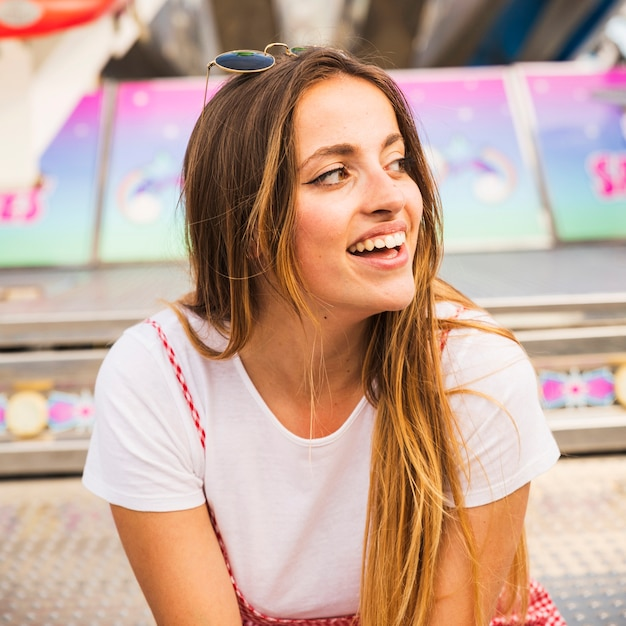teen: (178, 40, 448, 344)
